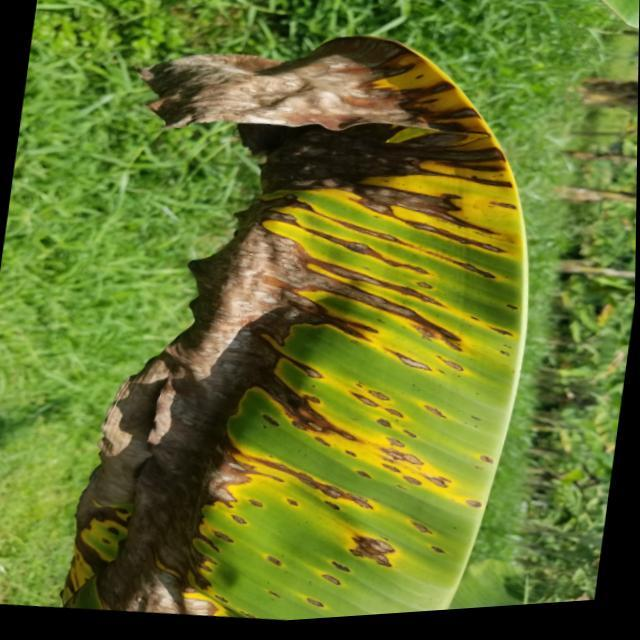Early_rust: (56, 27, 538, 640)
